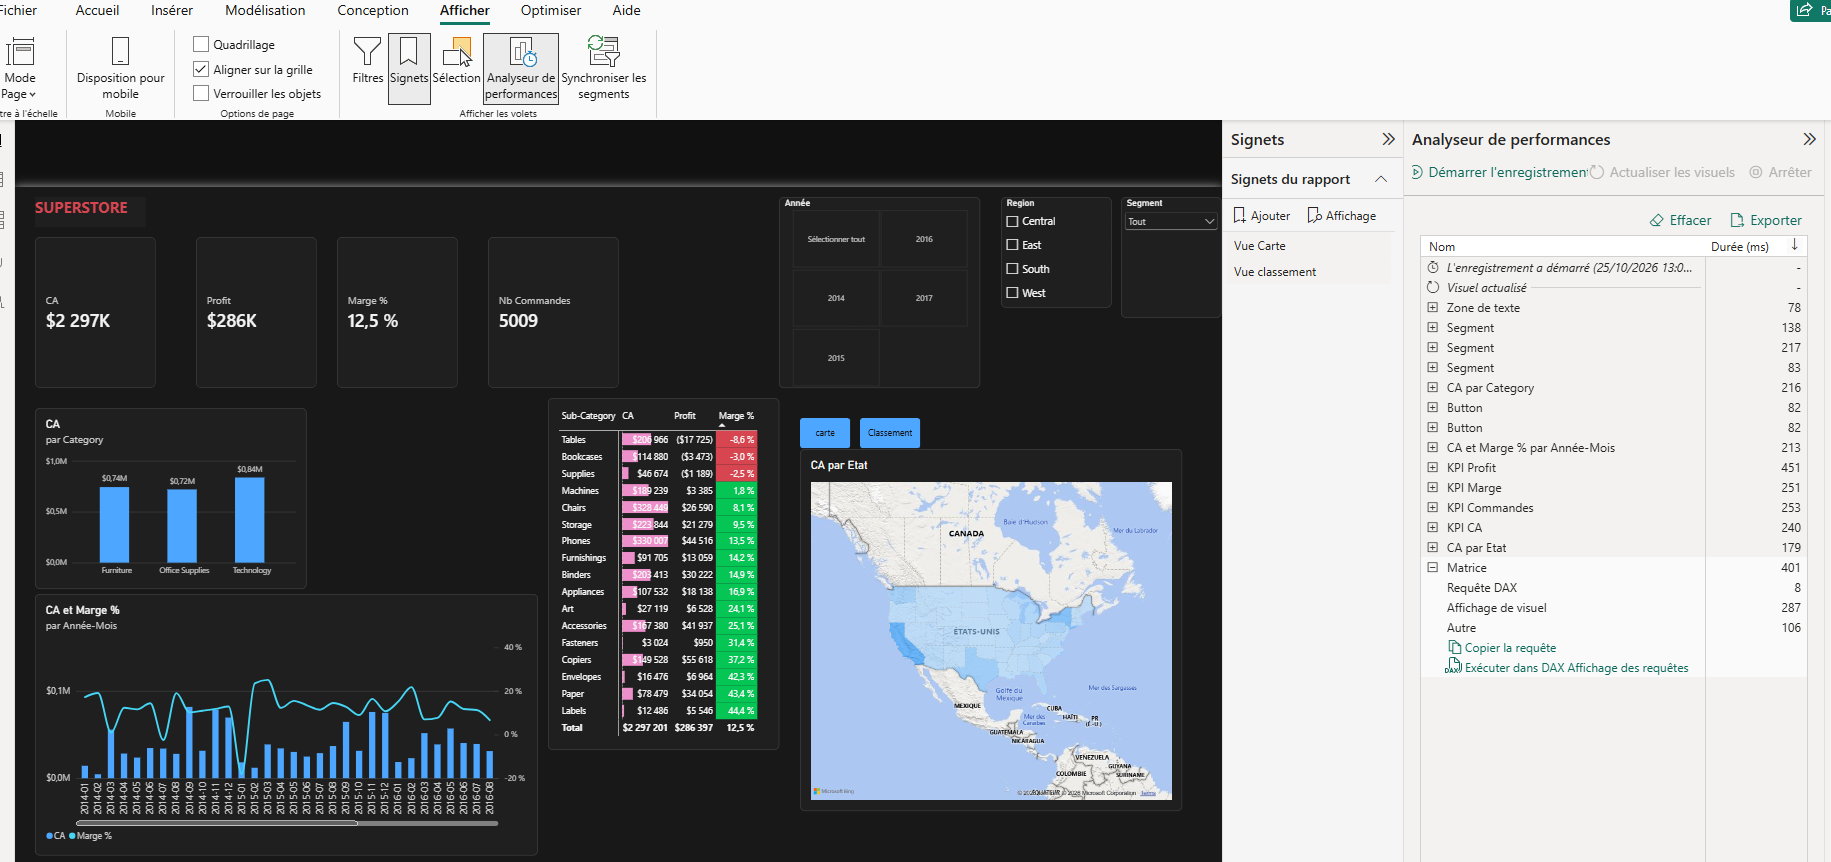

The dashboard page shown, as its layout file describes it:
{"tool":"powerbi","page":{"name":"Vue d'ensemble","canvas":[1920,1080],"ordinal":0},"visuals":[{"type":"cardVisual","title":"KPI CA","fields":{"Data":["Mesures.CA"]},"box":[32,80,192,240],"z":0},{"type":"cardVisual","title":"KPI Profit","fields":{"Data":["Mesures.Profit"]},"box":[288,80,192,240],"z":1000},{"type":"cardVisual","title":"KPI Marge","fields":{"Data":["Mesures.Marge %"]},"box":[512,80,192,240],"z":2000},{"type":"cardVisual","title":"KPI Commandes","fields":{"Data":["Mesures.Nb Commandes"]},"box":[752,80,208,240],"z":3000},{"type":"lineClusteredColumnComboChart","fields":{"Category":["Calendrier.Année-Mois"],"Y":["Mesures.CA"],"Y2":["Mesures.Marge %"]},"box":[32,648,800,416],"z":4000},{"type":"clusteredColumnChart","fields":{"Category":["Dim_produit.Category","Dim_produit.Sub-Category"],"Y":["Mesures.CA"]},"box":[32,352,432,288],"z":5000},{"type":"filledMap","title":"CA par Etat","fields":{"Category":["Dim-Geo.State"]},"box":[1248,416,608,576],"z":6000},{"type":"slicer","fields":{"Values":["Calendrier.Année"]},"box":[1216,16,320,304],"z":7000},{"type":"slicer","fields":{"Values":["Dim-Geo.Region"]},"box":[1568,16,176,176],"z":8000},{"type":"slicer","fields":{"Values":["Dim_Client.Segment"]},"box":[1760,16,160,192],"z":9000},{"type":"pivotTable","fields":{"Rows":["Dim_produit.Sub-Category"],"Values":["Mesures.CA","Mesures.Profit","Mesures.Marge %"]},"box":[848,336,368,560],"z":10000},{"type":"textbox","box":[32,16,176,48],"z":11000},{"type":"actionButton","box":[1248,368,80,48],"z":13000},{"type":"actionButton","box":[1344,368,96,48],"z":14000}]}

Visuals, with their boxes on the page's 1920x1080 design canvas (x1, y1, x2, y2). These are canvas units, not pixel positions in the 1831x862 screenshot, which may show the page scaled, cropped or inside an application window:
"KPI CA" cardVisual: 32,80,224,320
"KPI Profit" cardVisual: 288,80,480,320
"KPI Marge" cardVisual: 512,80,704,320
"KPI Commandes" cardVisual: 752,80,960,320
lineClusteredColumnComboChart - Calendrier.Année-Mois x Mesures.CA: 32,648,832,1064
clusteredColumnChart - Dim_produit.Category x Dim_produit.Sub-Category: 32,352,464,640
"CA par Etat" filledMap: 1248,416,1856,992
slicer - Calendrier.Année: 1216,16,1536,320
slicer - Dim-Geo.Region: 1568,16,1744,192
slicer - Dim_Client.Segment: 1760,16,1920,208
pivotTable - Dim_produit.Sub-Category x Mesures.CA: 848,336,1216,896
textbox: 32,16,208,64
actionButton: 1248,368,1328,416
actionButton: 1344,368,1440,416
